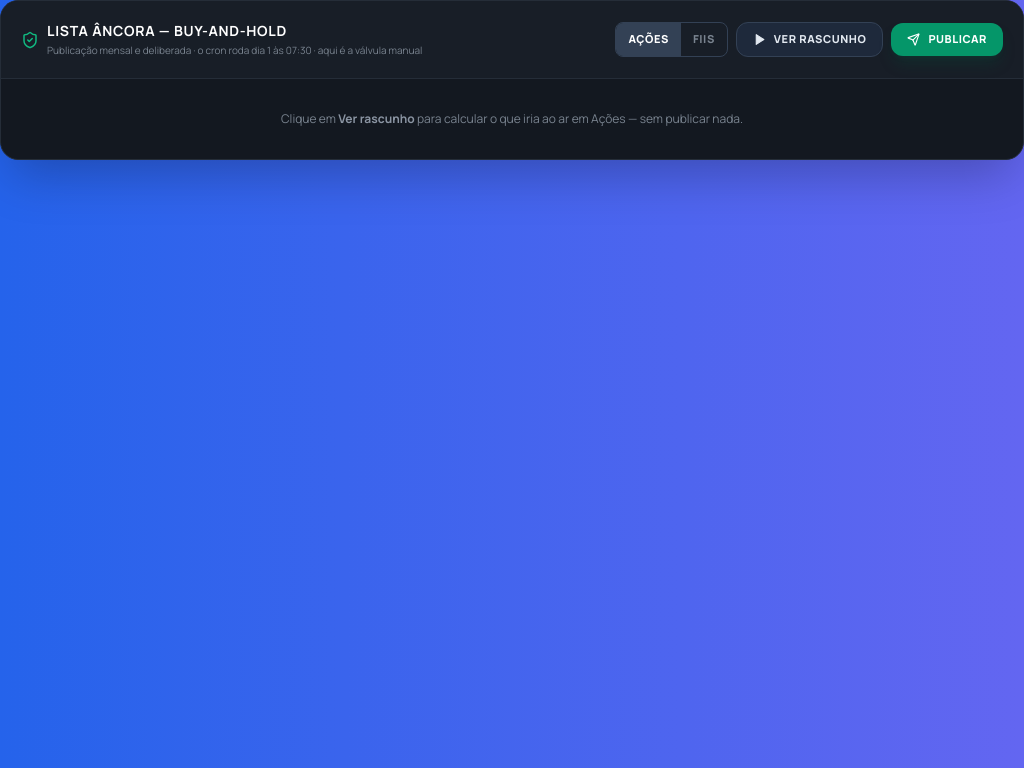
Test: AnchorPublicationCard › o rascunho de uma classe não vaza para a outra aba
Click the button "Ver rascunho" at x=810, y=40, box left=736, top=22, right=883, bottom=57
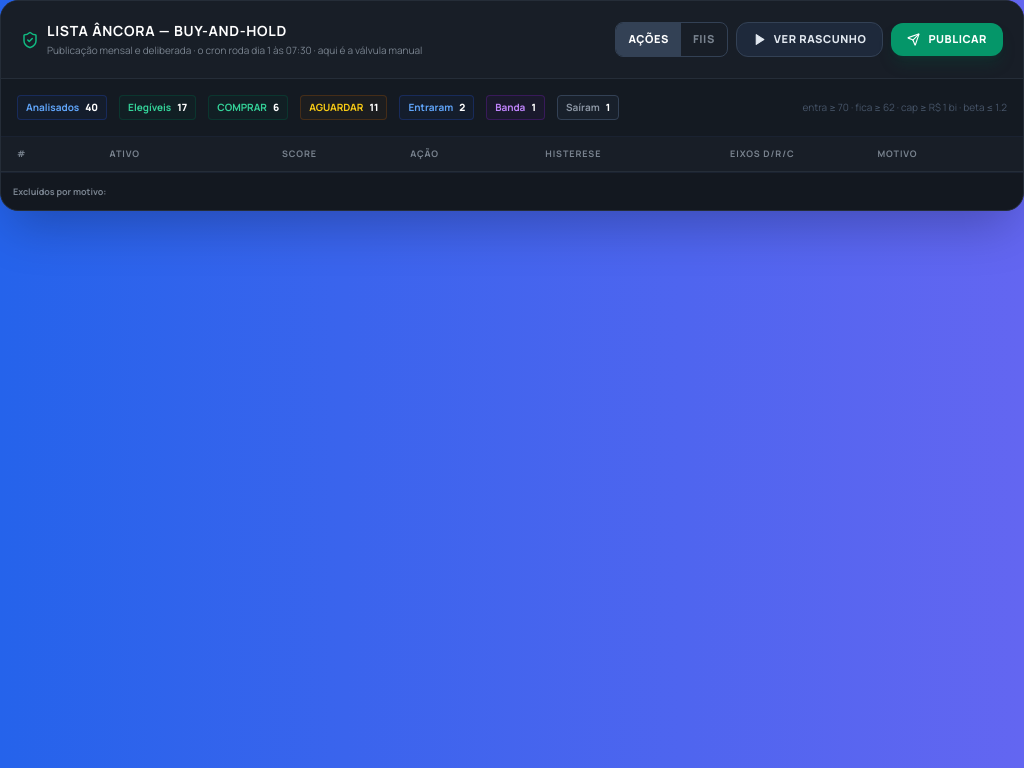
Now the text "Analisados 40" is shown, box left=17, top=95, right=107, bottom=120
Click the button "FIIs" at x=704, y=40, box left=681, top=23, right=727, bottom=56
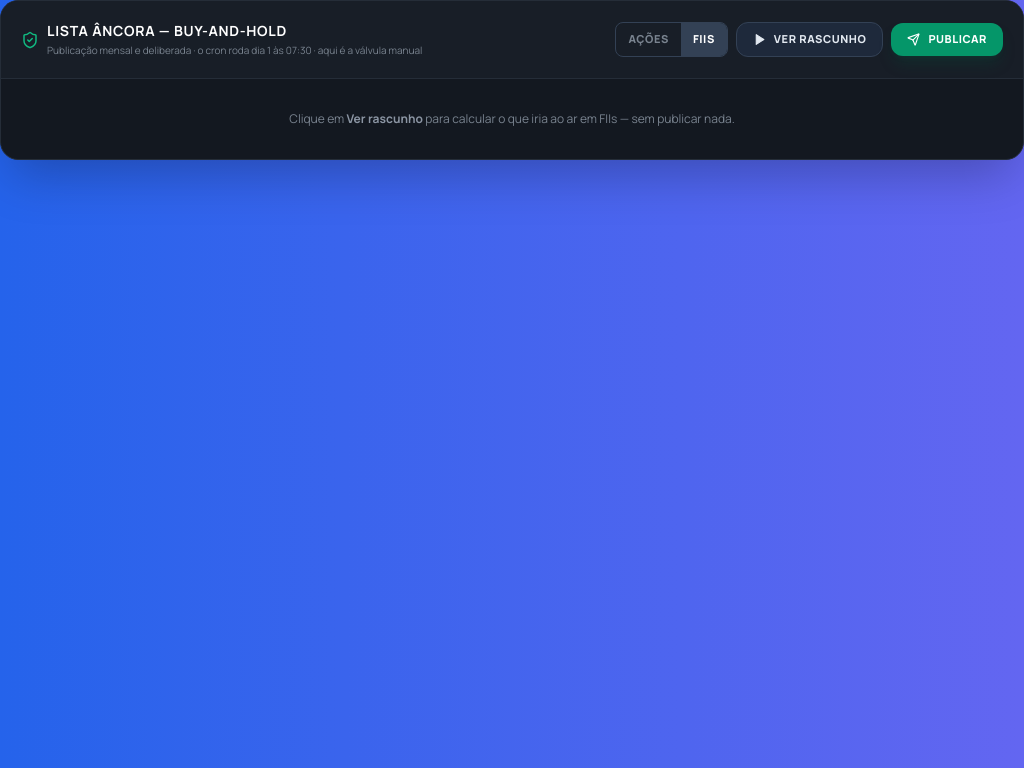
Now the text "para calcular o que iria ao ar" is shown, box left=423, top=110, right=599, bottom=127
